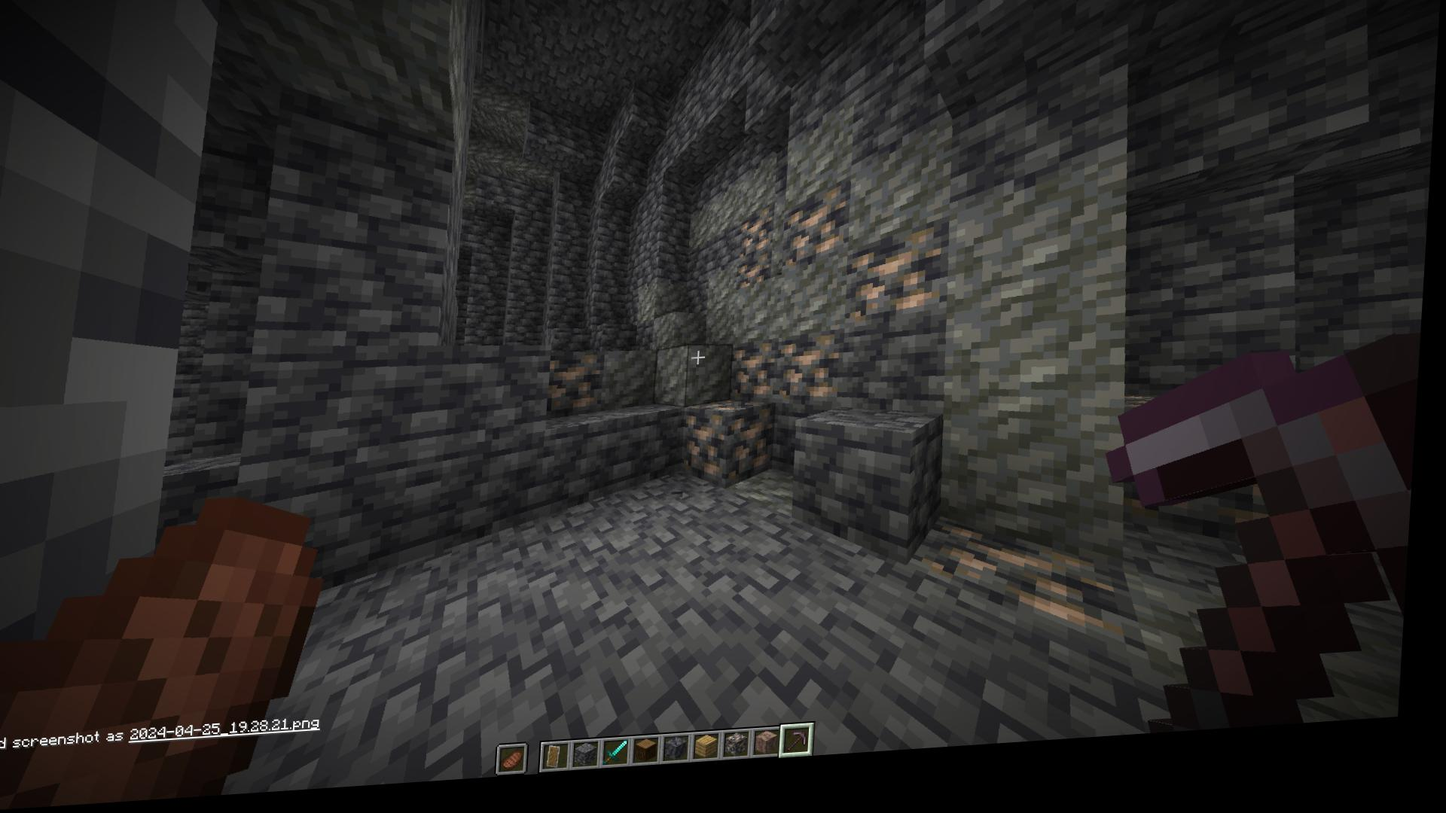iron ore: (931, 514, 1158, 662), (850, 245, 956, 319), (692, 410, 782, 494), (780, 196, 857, 269), (781, 342, 847, 413), (554, 361, 612, 425), (735, 349, 784, 408), (738, 222, 781, 262), (738, 263, 777, 301)
